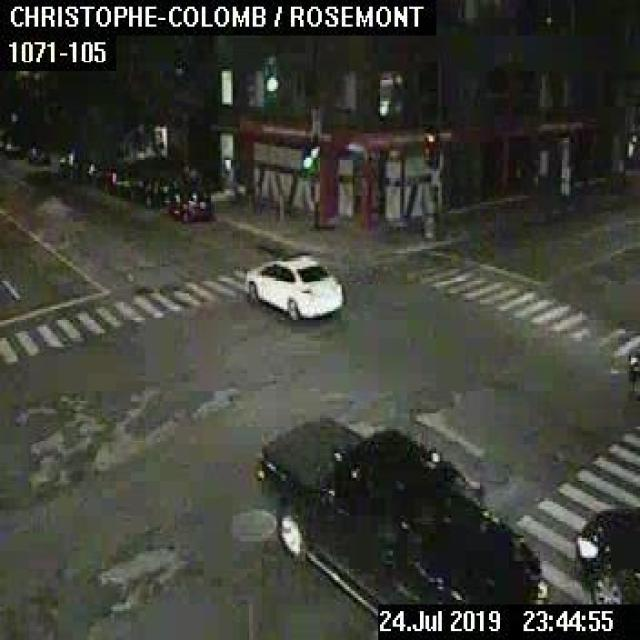vehicle: (254, 413, 546, 620), (244, 253, 342, 321), (571, 504, 638, 602), (160, 188, 213, 222), (129, 174, 175, 206), (90, 165, 131, 191), (626, 340, 638, 387), (29, 146, 49, 163), (4, 140, 24, 156)
